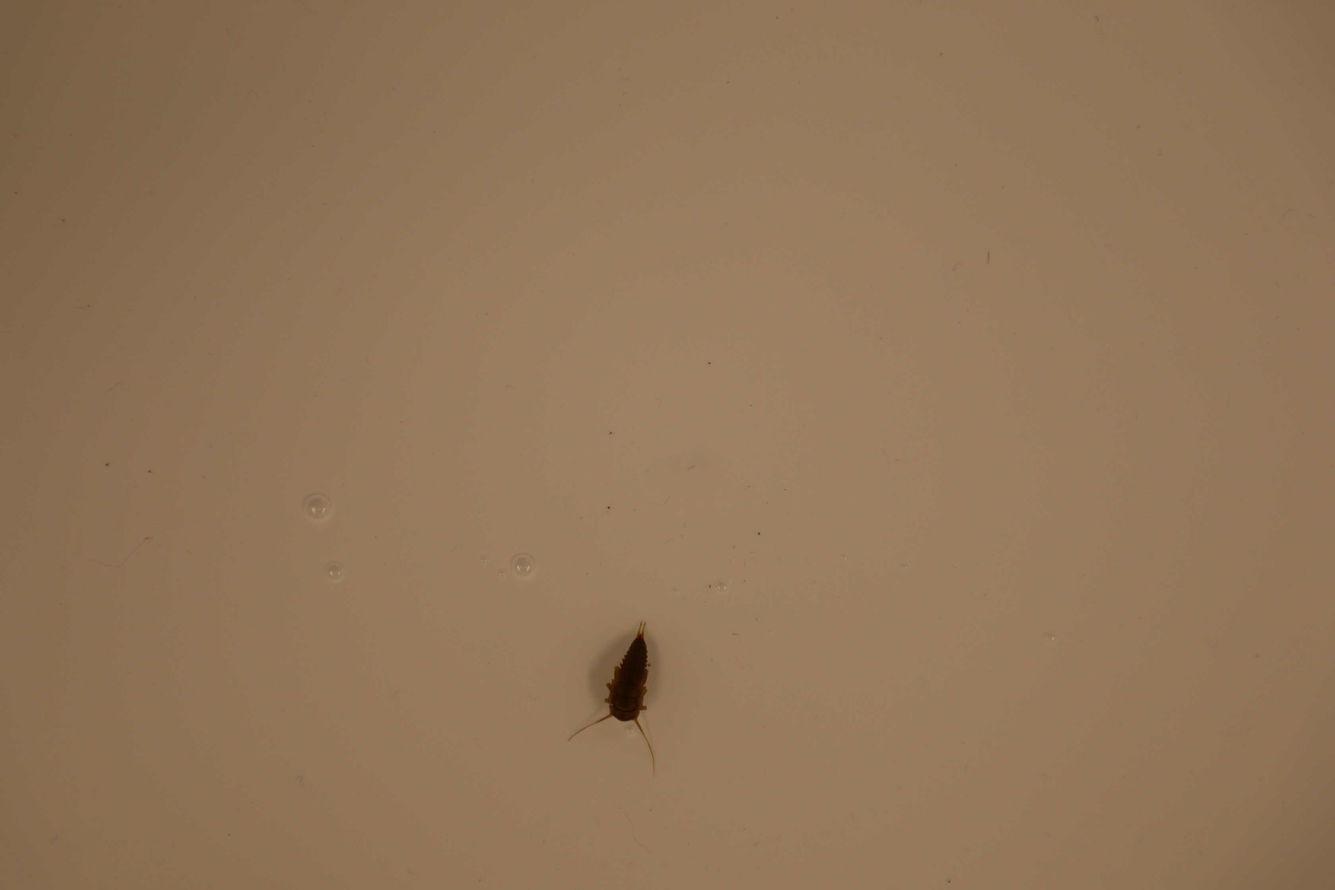Stonefly: (568, 614, 665, 774)
